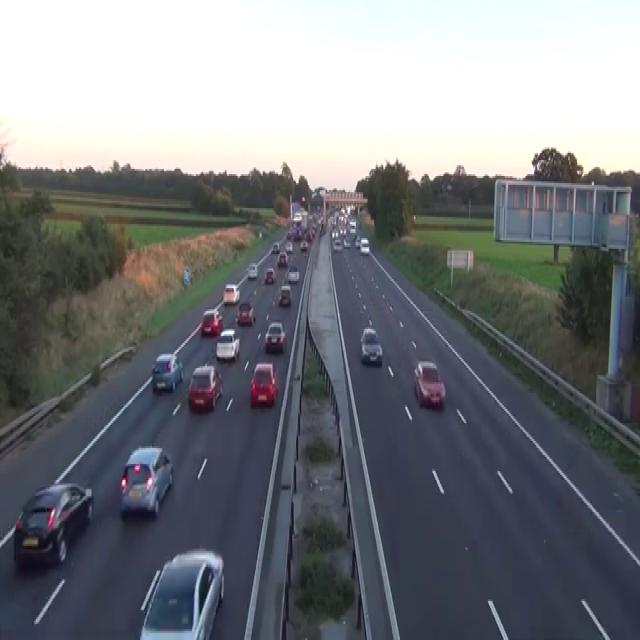Car: (138, 548, 224, 638), (13, 482, 93, 567), (119, 445, 173, 519), (187, 362, 223, 412), (413, 359, 445, 409), (249, 361, 277, 407), (151, 352, 183, 391), (360, 327, 382, 365), (216, 329, 239, 361), (264, 320, 286, 352), (201, 308, 223, 336), (235, 300, 255, 326), (223, 283, 240, 304), (277, 284, 291, 306), (287, 224, 301, 240), (287, 265, 299, 283), (359, 237, 370, 254), (247, 263, 258, 279), (264, 266, 275, 282), (277, 250, 288, 266), (333, 238, 342, 251), (348, 220, 356, 234), (271, 242, 280, 254), (354, 235, 361, 249), (282, 268, 289, 282), (285, 240, 293, 252), (300, 240, 308, 251), (331, 229, 339, 240), (293, 212, 301, 222), (320, 222, 326, 235), (343, 237, 350, 247), (286, 229, 292, 240), (330, 217, 336, 227), (258, 228, 262, 238)
